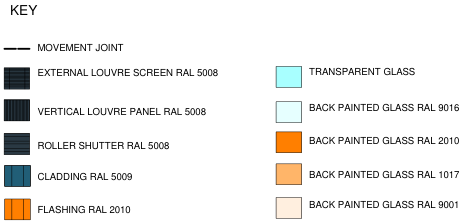hatch: (0, 64, 33, 91), (273, 63, 304, 90), (2, 163, 32, 190), (3, 196, 33, 222), (274, 194, 304, 220), (1, 97, 32, 122), (3, 131, 31, 157), (274, 100, 303, 125), (273, 162, 303, 186), (275, 129, 303, 154), (1, 43, 31, 56)
label: (306, 95, 461, 116), (308, 164, 461, 182), (307, 132, 461, 148), (36, 105, 209, 117), (36, 66, 223, 77), (34, 139, 171, 152), (307, 199, 459, 210), (309, 66, 420, 77), (37, 203, 132, 215), (35, 42, 126, 54), (37, 171, 134, 182)
